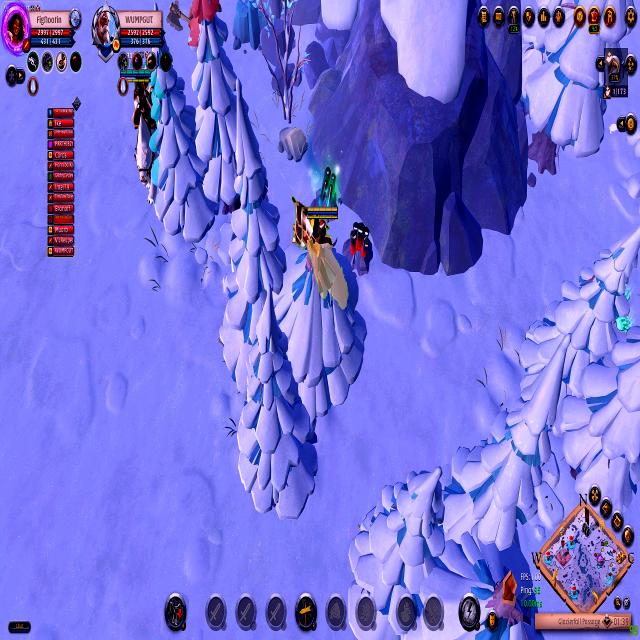ore: (167, 0, 226, 59)
player: (305, 160, 345, 236), (340, 213, 378, 291)
red: (110, 44, 173, 202), (286, 200, 350, 317)
tree: (229, 0, 279, 60)
